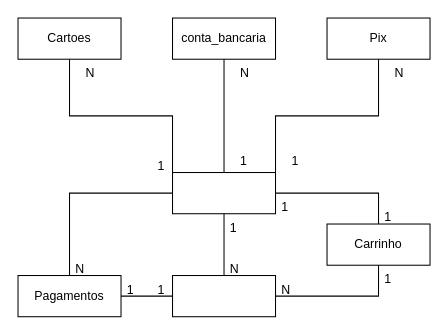
Some shapes in this 448 by 335 pixel diagram are drawn without their labels. Each missing label, with the centre of its shape:
"Anuncios" belongs at [223,295].
"Usuario" belongs at [223,192].
